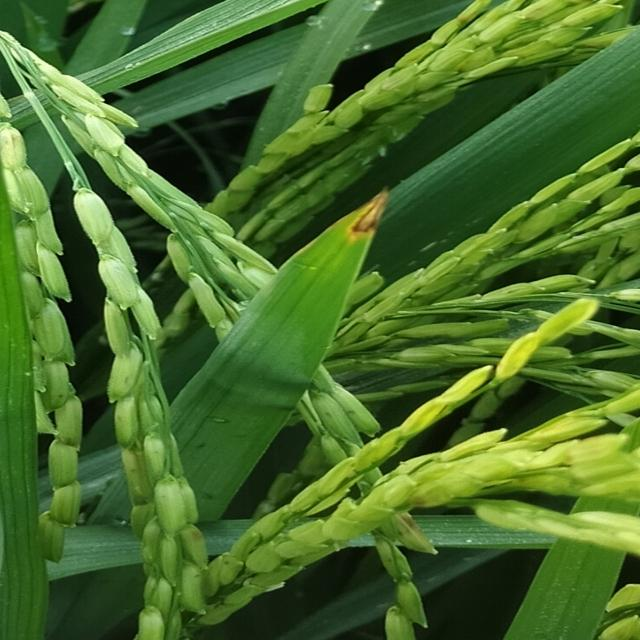healthy: (343, 183, 396, 256)
